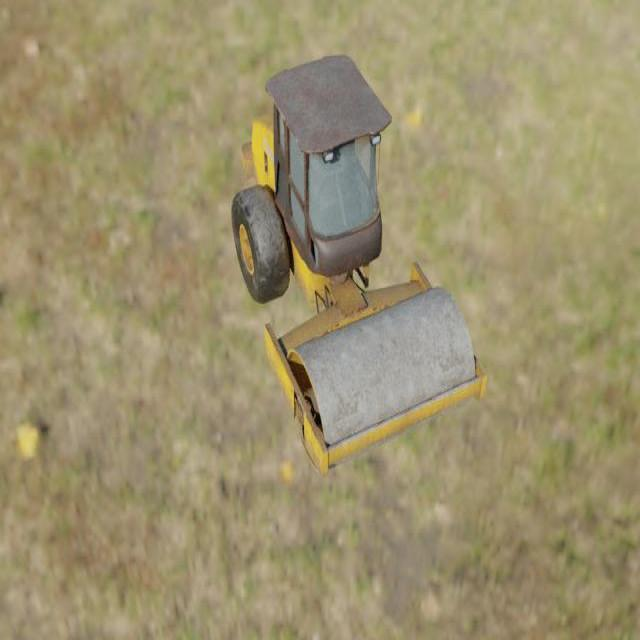Roller: (230, 54, 487, 478)
